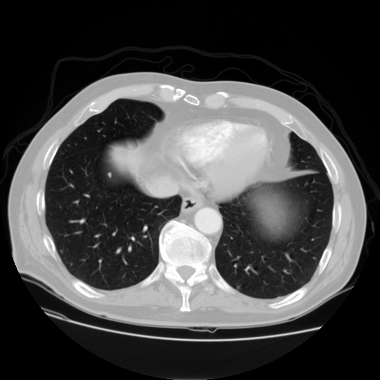nodule: (107, 172, 111, 176)
